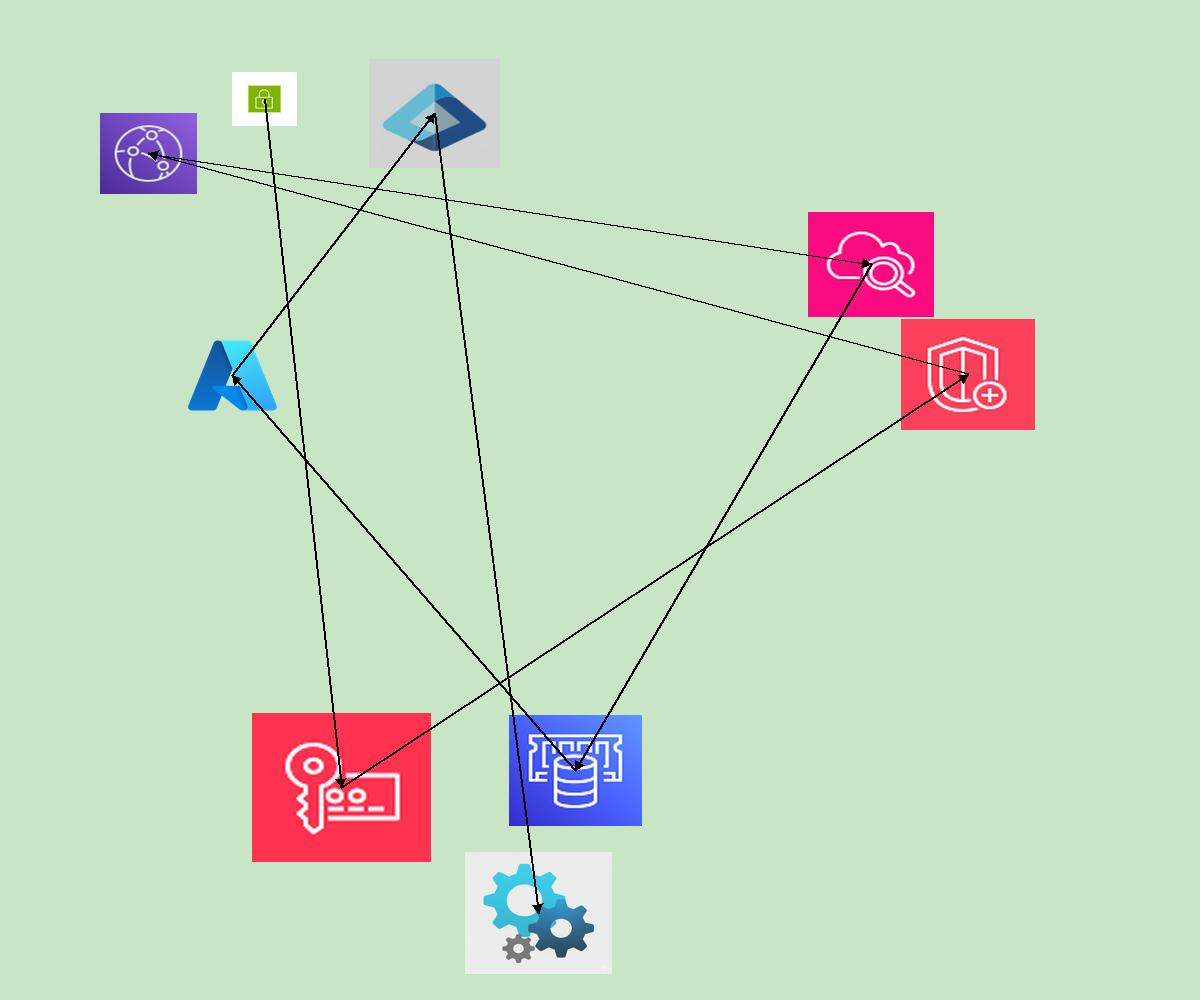AWS-CloudFront: (100, 113, 197, 194)
AWS-CloudWatch: (808, 212, 934, 317)
AWS-ElastiCache: (509, 715, 642, 826)
AWS-Key-Management-Service: (252, 713, 431, 862)
AWS-Public-subnet: (232, 72, 297, 126)
AWS-Shield: (901, 319, 1035, 430)
Azure_api: (465, 852, 612, 974)
Azure_microsoft_entra: (369, 59, 500, 168)
Azure_services: (184, 335, 281, 416)
